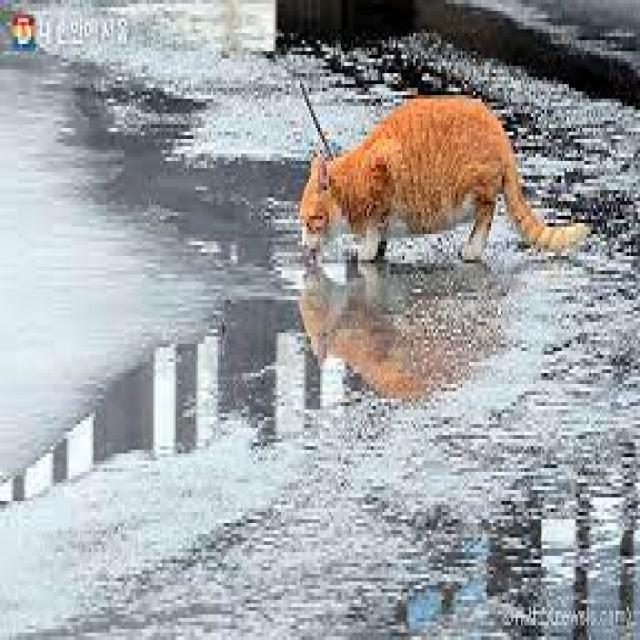cat: (249, 52, 602, 362)
